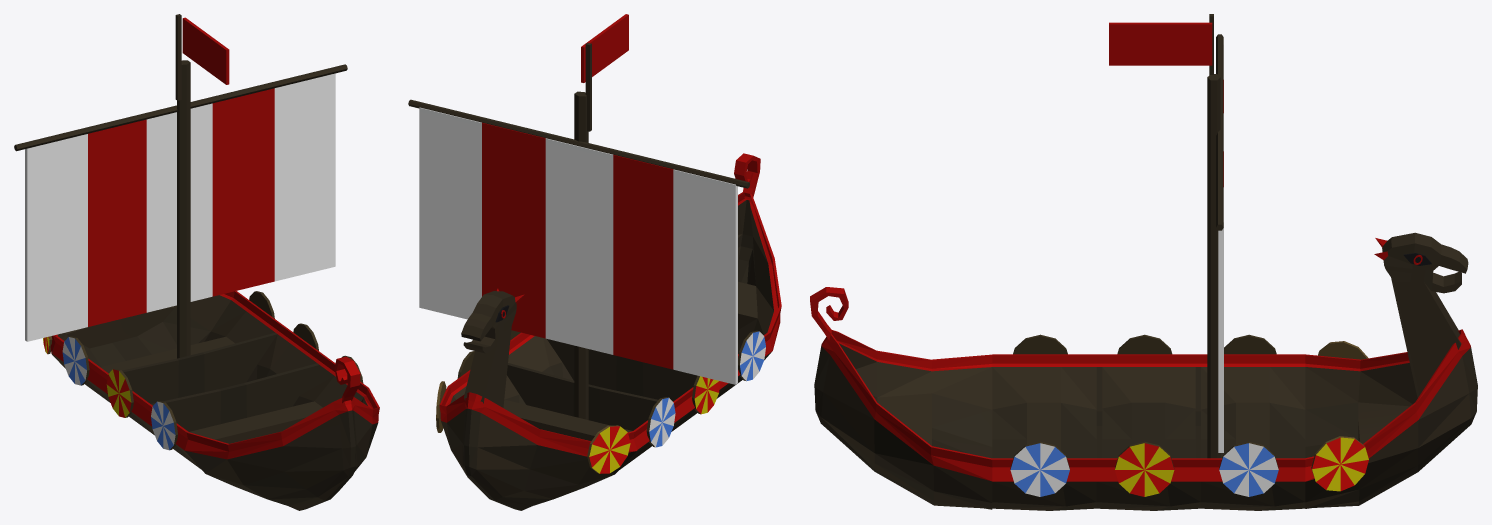
Rendered from Ship_03.fbx.
3 renders of one model, left to right at view 1: azimuth 30°, elevation 25°; view 2: azimuth 150°, elevation 25°; view 3: azimuth 270°, elevation 25°, orthographic. The views are drawn at different scales.
Visible parts, largest first — view 1: Sail, Ship_03, Flag; view 2: Sail, Ship_03, Flag; view 3: Ship_03, Flag, Sail.
Part boxes in pixels (left/top/right/bottom): Sail: left=25, top=73, right=335, bottom=341; Ship_03: left=14, top=14, right=379, bottom=510; Flag: left=182, top=17, right=229, bottom=84; Sail: left=419, top=107, right=737, bottom=384; Ship_03: left=408, top=43, right=781, bottom=510; Flag: left=581, top=14, right=628, bottom=82; Ship_03: left=810, top=14, right=1477, bottom=510; Flag: left=1109, top=22, right=1212, bottom=65; Sail: left=1218, top=45, right=1223, bottom=452.
Size of the model in its own units: 1640 by 1961 by 2431.
